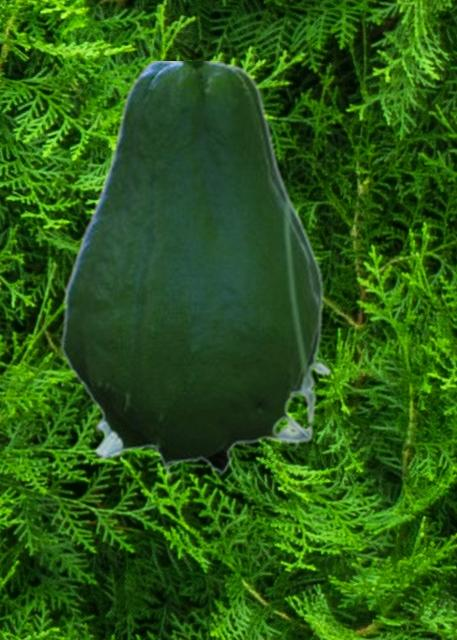sayote: (60, 61, 331, 481)
